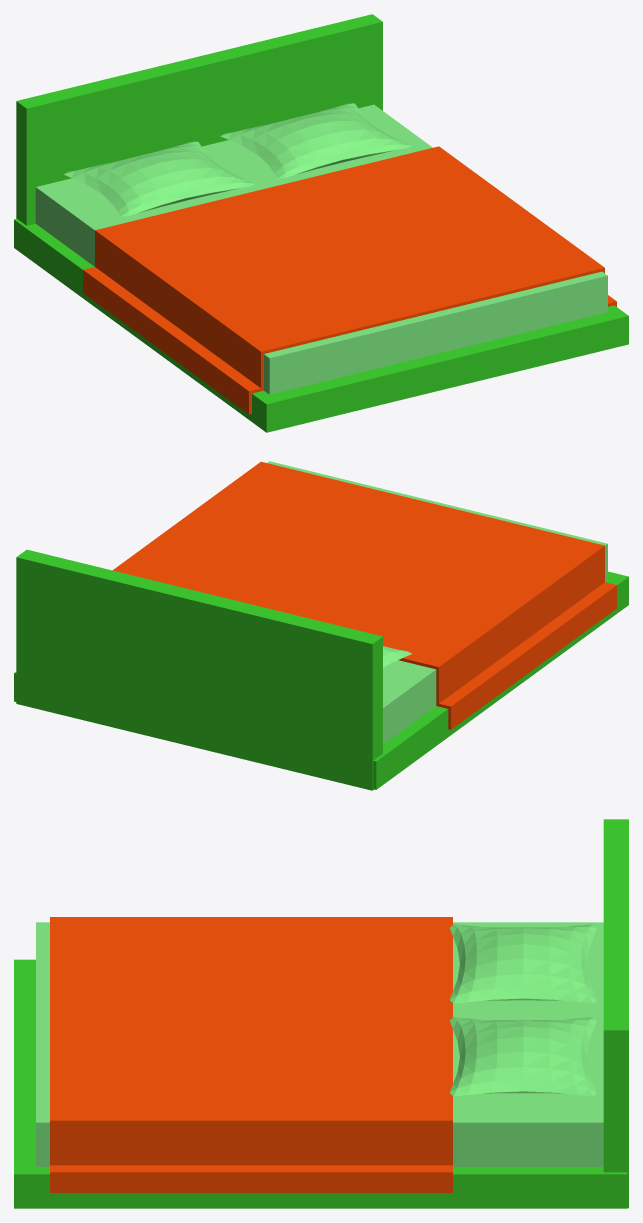
The model's file is Bed_05.fbx.
The picture shows the model from 3 angles, top to bottom: view 1: azimuth 30°, elevation 25°; view 2: azimuth 150°, elevation 25°; view 3: azimuth 270°, elevation 25°; orthographic projection. The views are drawn at different scales.
Parts seen in each view (by area): view 1: Bed_05; view 2: Bed_05; view 3: Bed_05.
Part boxes in pixels (left/top/right/bottom): Bed_05: left=14, top=14, right=628, bottom=432; Bed_05: left=14, top=461, right=628, bottom=790; Bed_05: left=14, top=819, right=628, bottom=1208.
Bounding box in the file's own units: 203 × 77.24 × 242.
